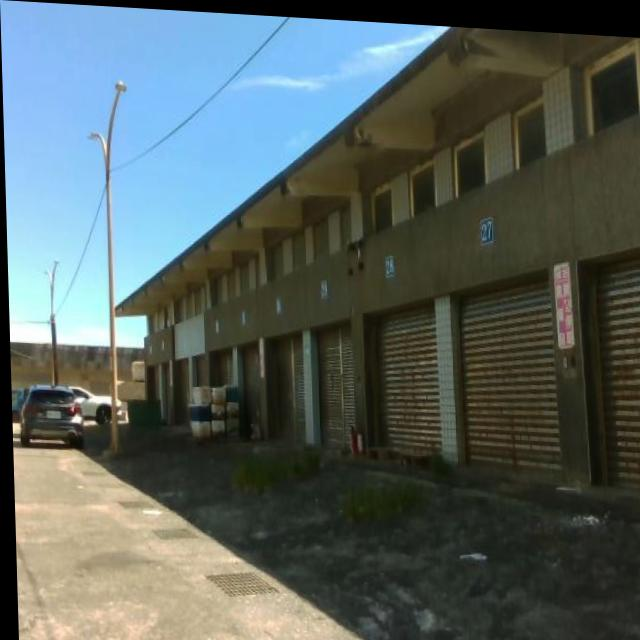pollute: (186, 378, 241, 439)
